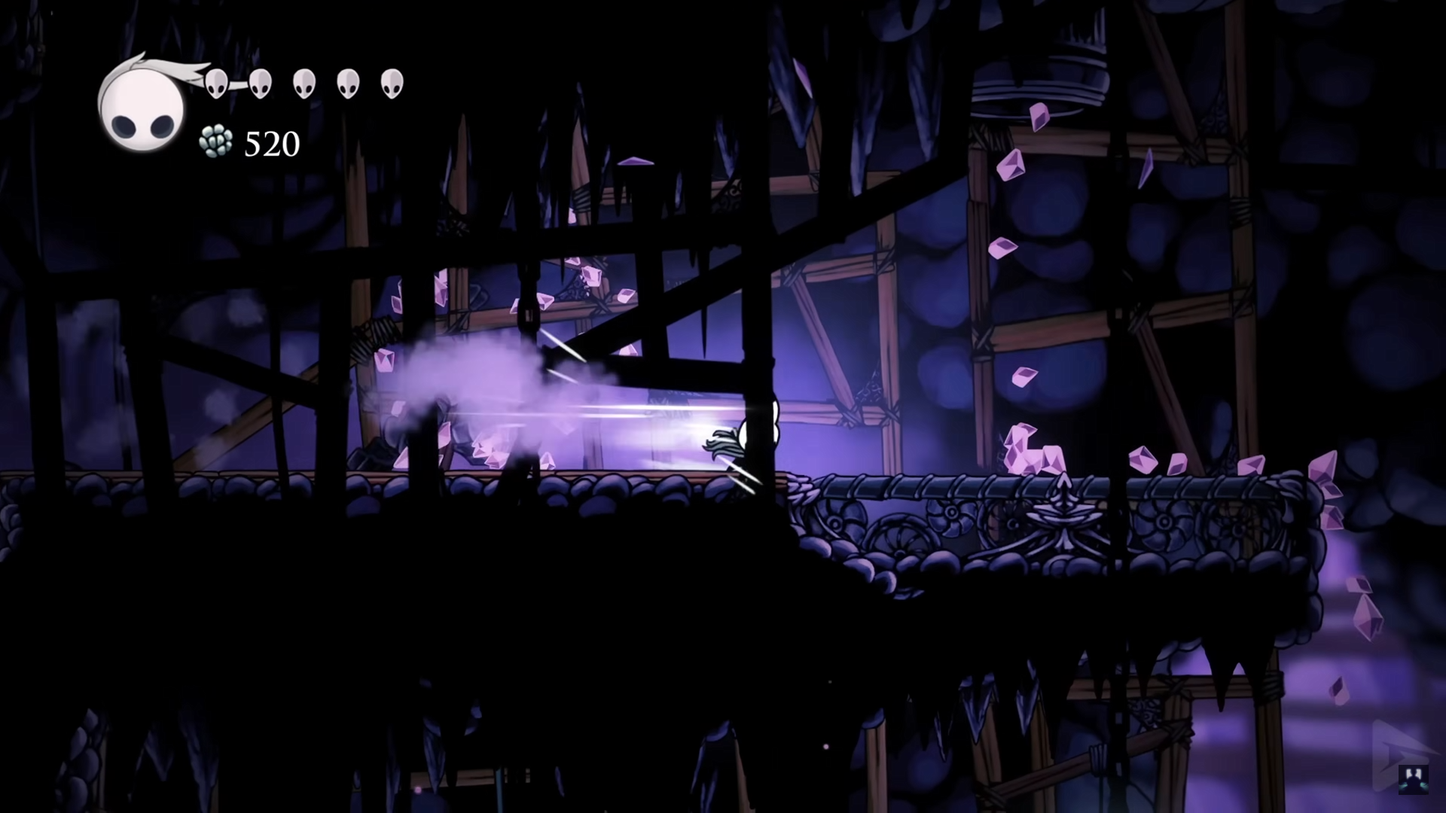HK: (706, 402, 787, 476)
